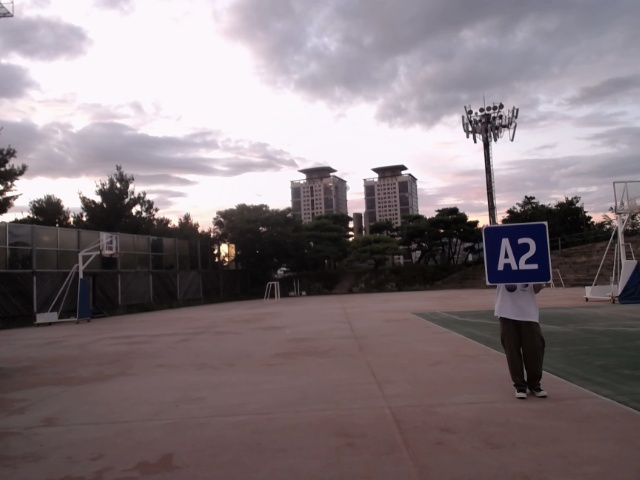delivery_a2: (483, 222, 551, 285)
